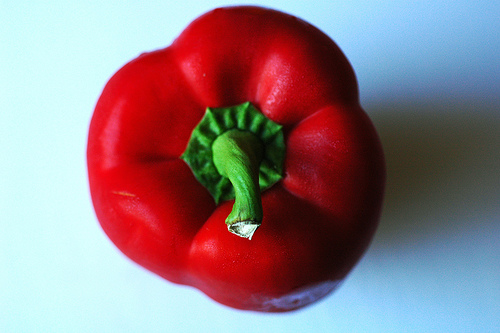capsicum: (85, 7, 387, 313)
